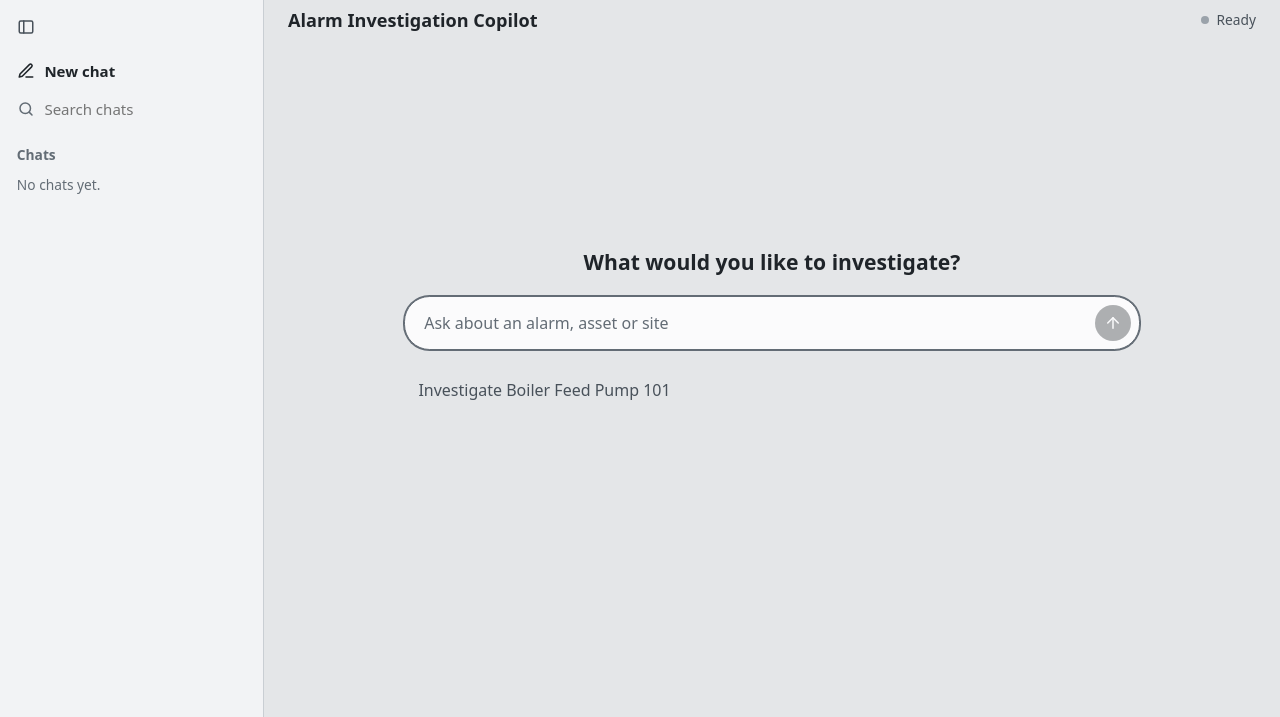
Test: a document chip opens the cited passage
The width and height of the screenshot is (1280, 717).
Type "Investigate Boiler Feed Pump 101" into the text box named "Question". click: (750, 323)
box: [415,303,1086,343]
Then press Enter
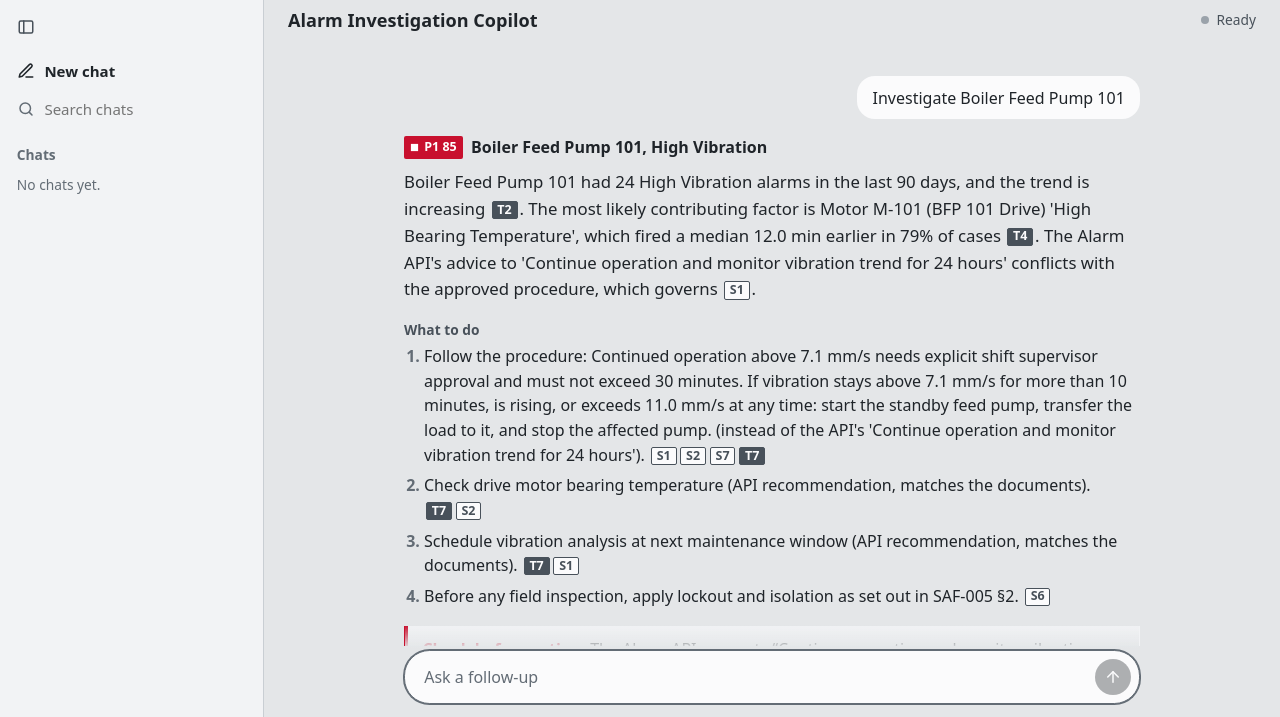
Click the button named "Document source 1: show evidence". click: (737, 290)
box: [724,281,750,300]
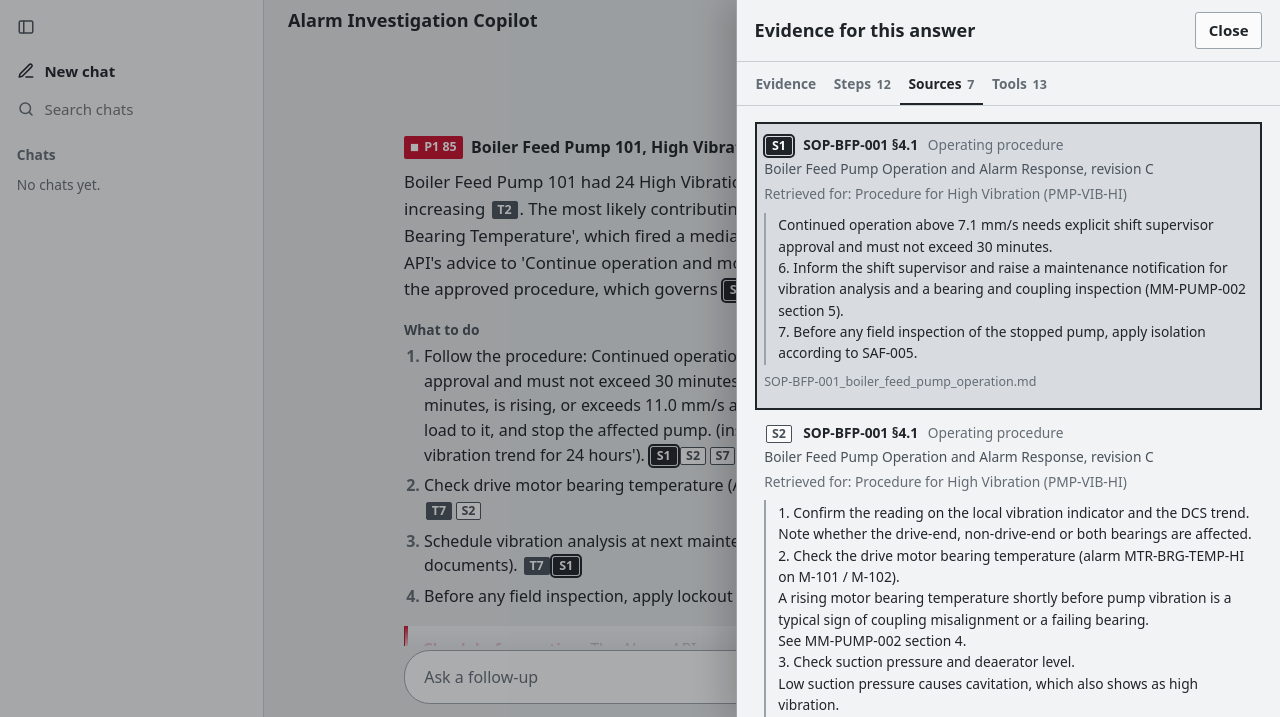
Check: the list item with class "source" shows "S1", box [766,137,792,155]
